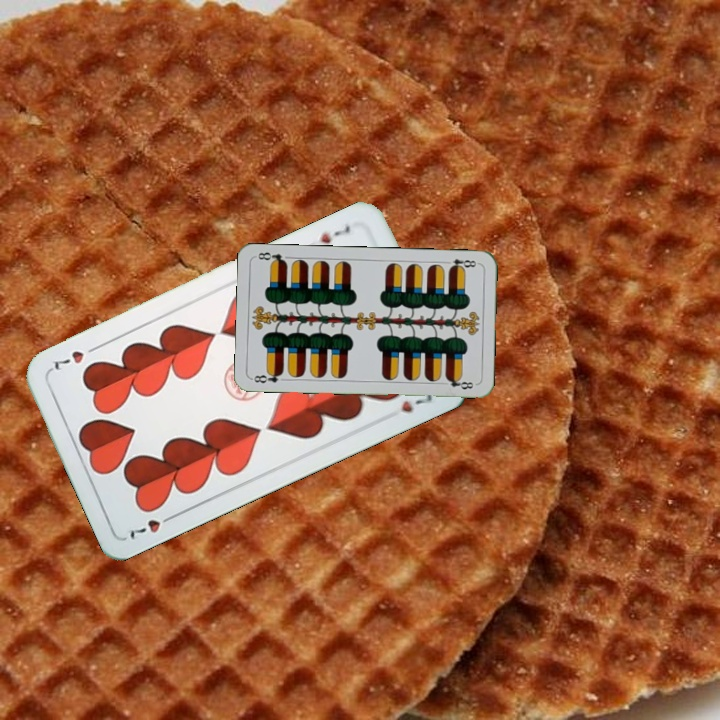E8: (441, 255, 481, 272), (249, 368, 286, 385)
H7: (123, 510, 179, 543), (312, 221, 353, 247)
